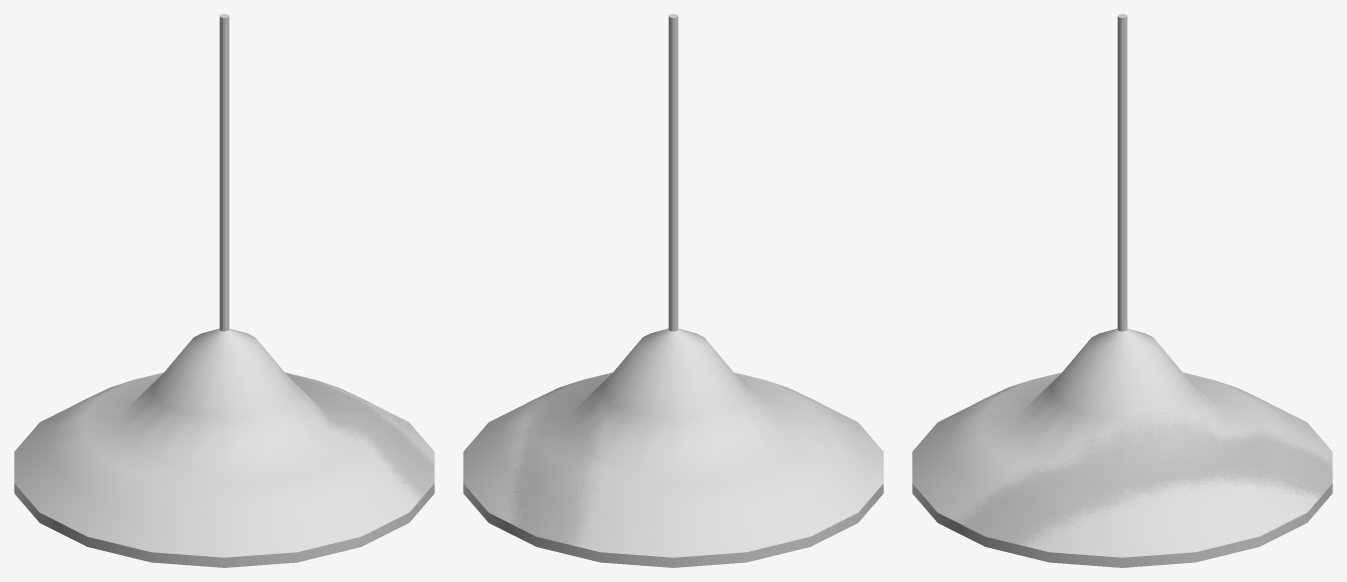
The model's file is Lamp.FBX.
3 views of the same model, side by side, from view 1: azimuth 30°, elevation 25°; view 2: azimuth 150°, elevation 25°; view 3: azimuth 270°, elevation 25° (orthographic).
Visible parts, largest first — view 1: Lamp; view 2: Lamp; view 3: Lamp.
Part boxes in pixels (x1,y1,x2,y2): Lamp: [14, 14, 434, 567]; Lamp: [463, 14, 883, 567]; Lamp: [912, 14, 1332, 567].
Size of the model in its own units: 32.76 by 39.09 by 32.26.
Materials: 1 (1 with a texture image).
